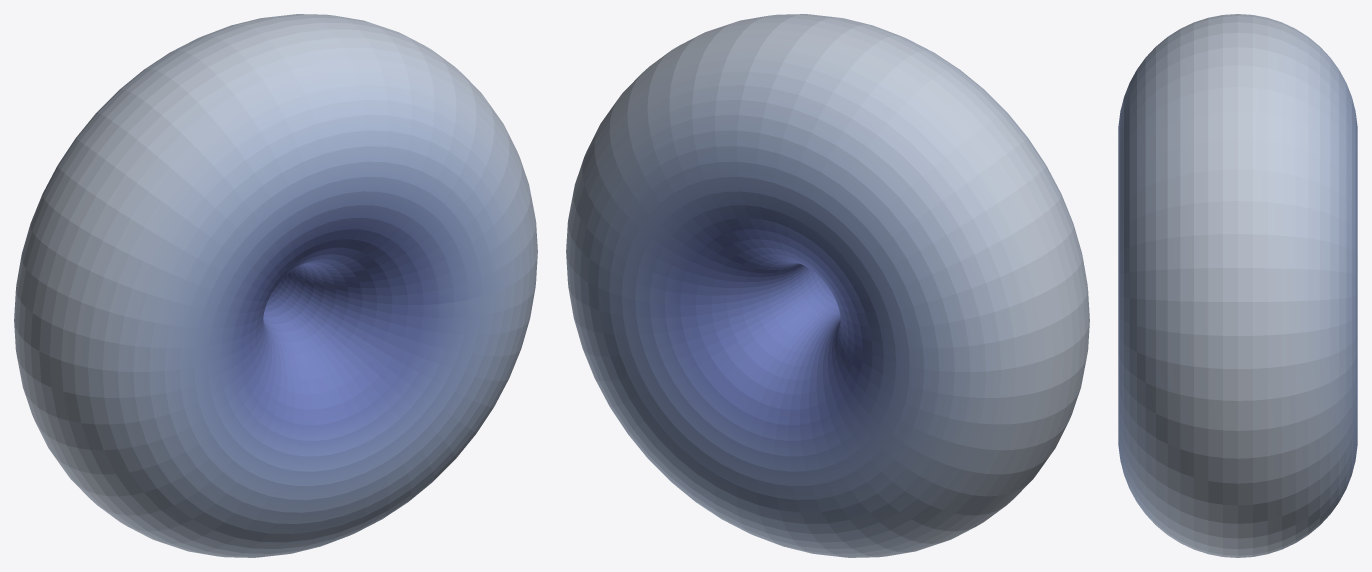
3 views of the same model, side by side, from view 1: azimuth 30°, elevation 25°; view 2: azimuth 150°, elevation 25°; view 3: azimuth 270°, elevation 25° (orthographic). The views are drawn at different scales.
Parts seen in each view (by area): view 1: world; view 2: world; view 3: world.
Part boxes in pixels (left/top/right/bottom): world: left=14, top=14, right=537, bottom=557; world: left=566, top=14, right=1089, bottom=557; world: left=1118, top=14, right=1357, bottom=557.
Bounding box in the file's own units: 17.87 × 17.83 × 7.85.
